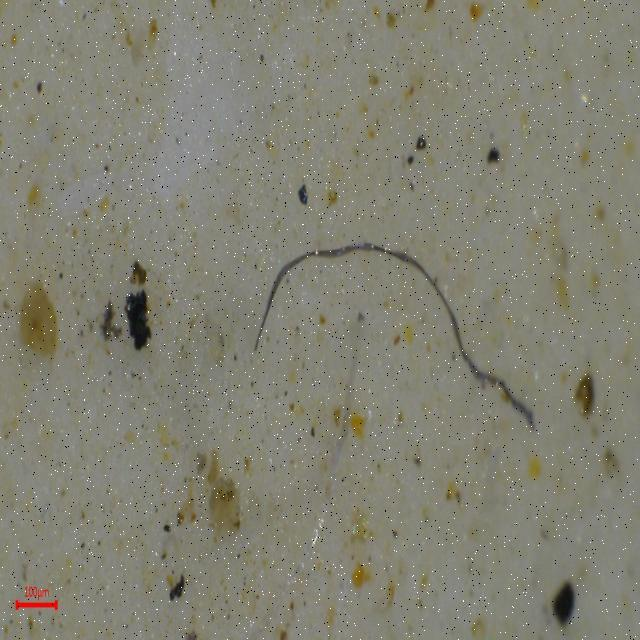fibers: (253, 220, 571, 430), (251, 341, 372, 640)
